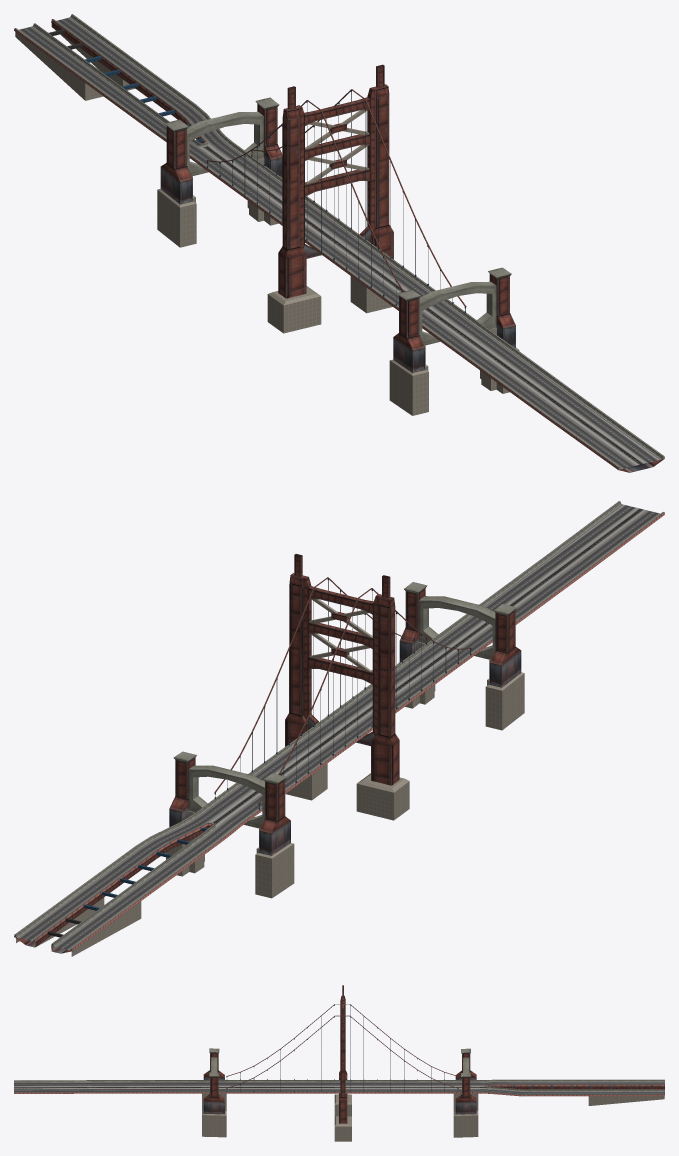
The model's file is water-bridge.glb.
3 views of the same model, one above another, from view 1: azimuth 30°, elevation 25°; view 2: azimuth 150°, elevation 25°; view 3: azimuth 270°, elevation 25° (orthographic). The views are drawn at different scales.
Visible parts, largest first — view 1: Bridge, road, sidewalk; view 2: Bridge, road, sidewalk; view 3: Bridge, road, sidewalk.
Boxes of the visible parts, <box> form: Bridge: <box>14,14,664,472</box>; road: <box>19,18,659,468</box>; sidewalk: <box>19,17,661,468</box>; Bridge: <box>14,501,664,956</box>; road: <box>19,504,659,949</box>; sidewalk: <box>17,504,659,950</box>; Bridge: <box>14,985,664,1141</box>; road: <box>14,1082,664,1094</box>; sidewalk: <box>14,1081,664,1091</box>.
Size of the model in its own units: 76.75 by 144 by 663.
4 materials, 4 textured.
